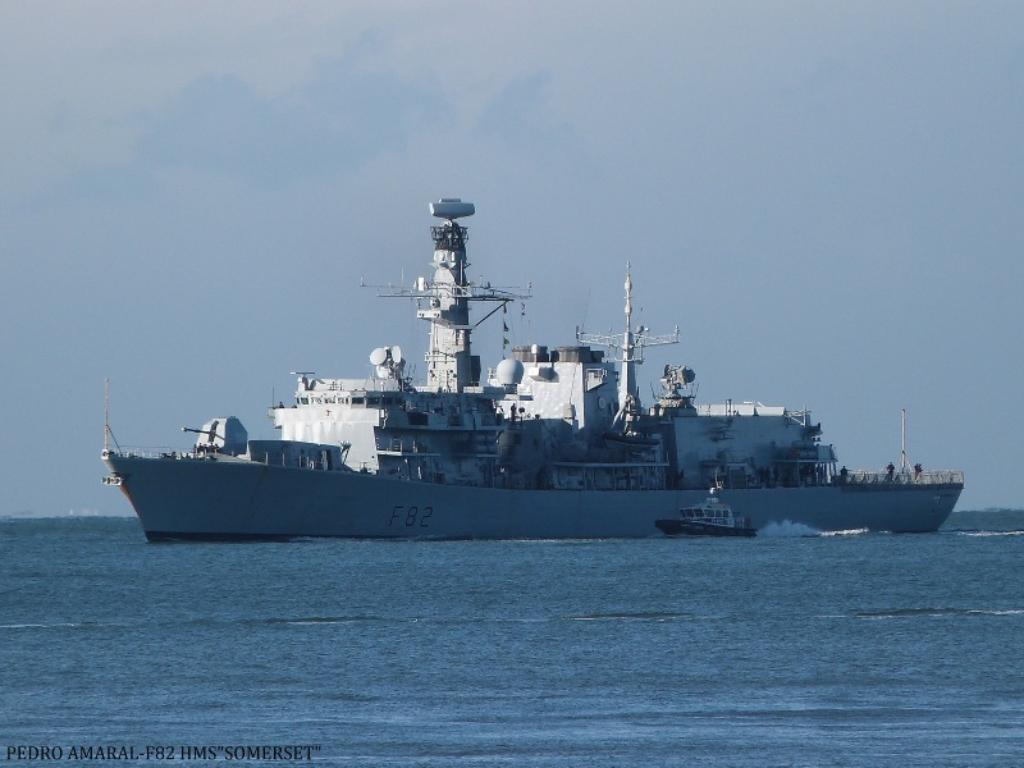Warship: (100, 191, 970, 543)
